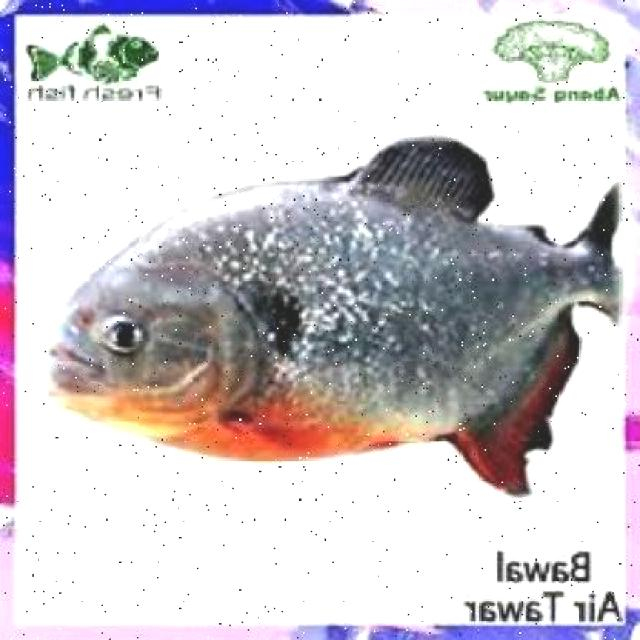ikan-pacu: (54, 150, 604, 476)
